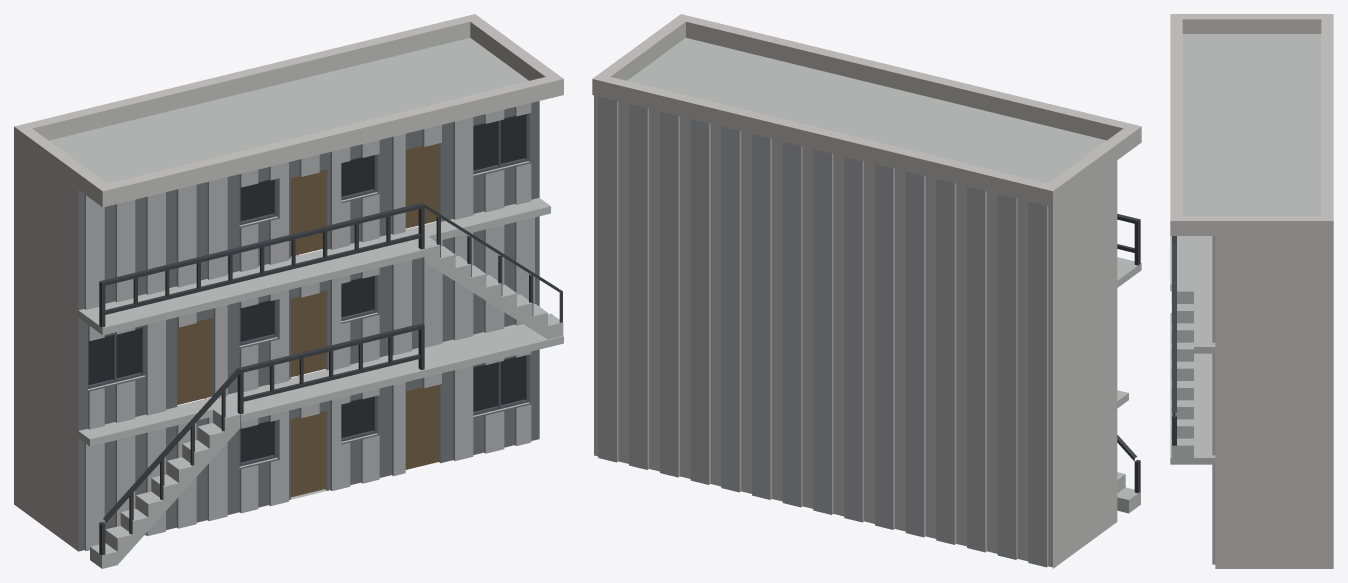
File: apartment-block-6445af.glb
3 renders of one model, left to right at view 1: azimuth 30°, elevation 25°; view 2: azimuth 150°, elevation 25°; view 3: azimuth 270°, elevation 25°, orthographic. The views are drawn at different scales.
Visible parts, largest first — view 1: block-shell, entry-door-leaf; view 2: block-shell; view 3: block-shell.
Part boxes in pixels (x1,y1,x2,y2): block-shell: (14, 14, 563, 568); entry-door-leaf: (290, 411, 324, 497); block-shell: (592, 14, 1141, 568); block-shell: (1170, 14, 1333, 568).
Bounding box in the file's own units: 12 × 9.4 × 4.
